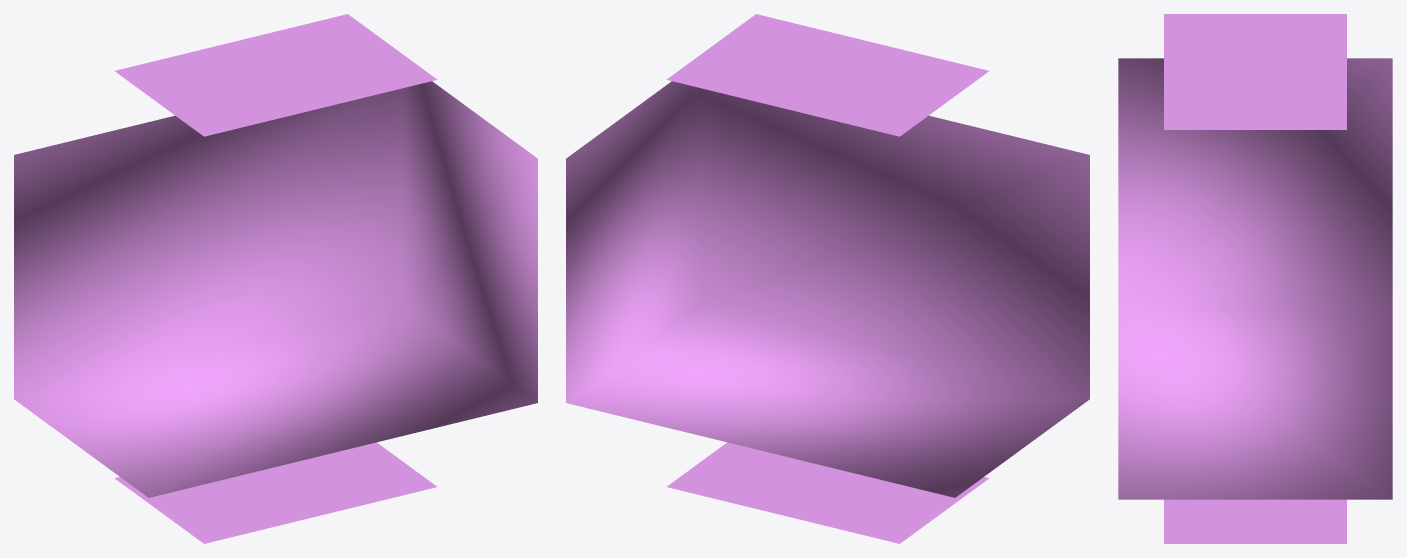
File: placeholder-utility.gltf
The picture shows the model from 3 angles, left to right: view 1: azimuth 30°, elevation 25°; view 2: azimuth 150°, elevation 25°; view 3: azimuth 270°, elevation 25°; orthographic projection.
Visible parts, largest first — view 1: PlaceholderUtility; view 2: PlaceholderUtility; view 3: PlaceholderUtility.
Part boxes in pixels (bbox=[...]): PlaceholderUtility: bbox=[14, 14, 537, 543]; PlaceholderUtility: bbox=[566, 14, 1089, 543]; PlaceholderUtility: bbox=[1118, 14, 1392, 543].
Size of the model in its own units: 1 by 1 by 0.6.
